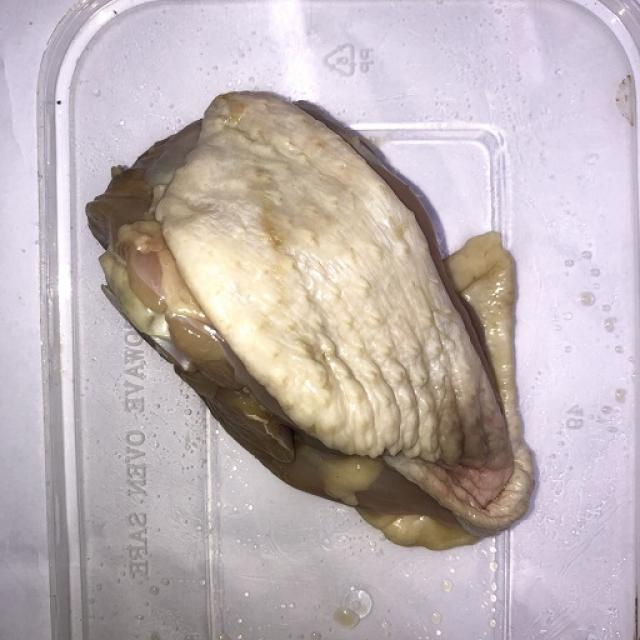chicken: (83, 73, 554, 565)
